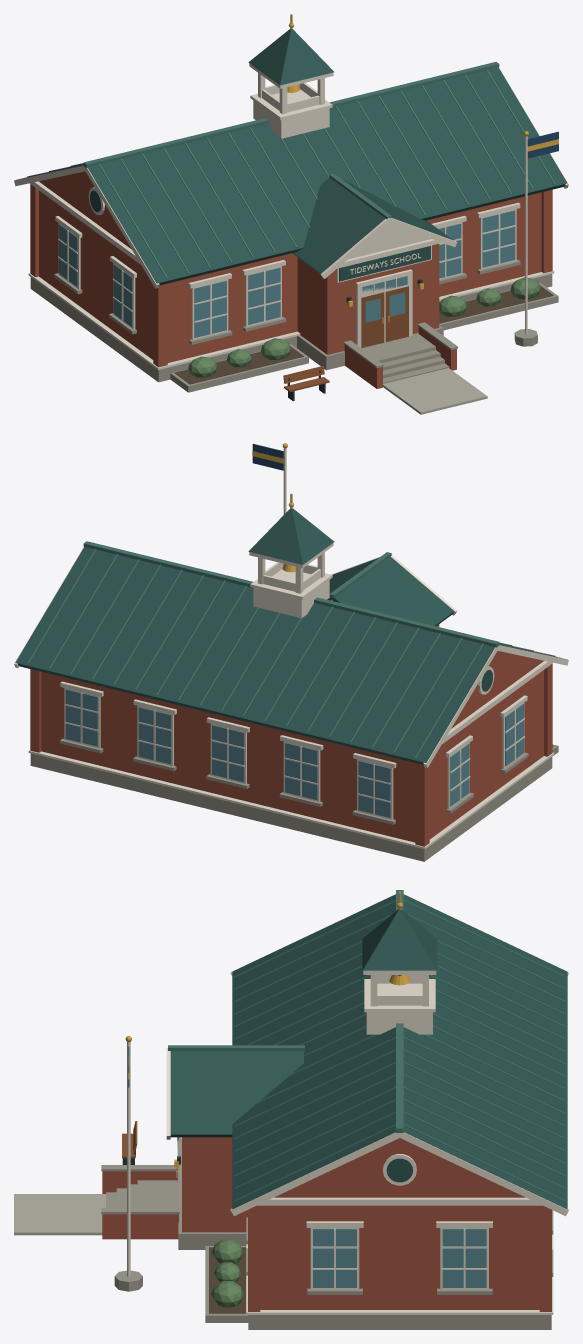
File: small_school.glb
The picture shows the model from 3 angles, top to bottom: view 1: azimuth 30°, elevation 25°; view 2: azimuth 150°, elevation 25°; view 3: azimuth 270°, elevation 25°; orthographic projection. The views are drawn at different scales.
Visible parts, largest first — view 1: SmallSchool; view 2: SmallSchool; view 3: SmallSchool.
Boxes of the visible parts, box(x1,y1,x2,y2) form: SmallSchool: box(14, 14, 568, 414); SmallSchool: box(14, 443, 568, 861); SmallSchool: box(14, 890, 568, 1329).
Bounding box in the file's own units: 19.18 × 12.12 × 18.84.
